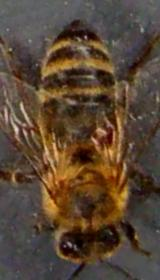varroa_mite: (83, 124, 117, 151)
